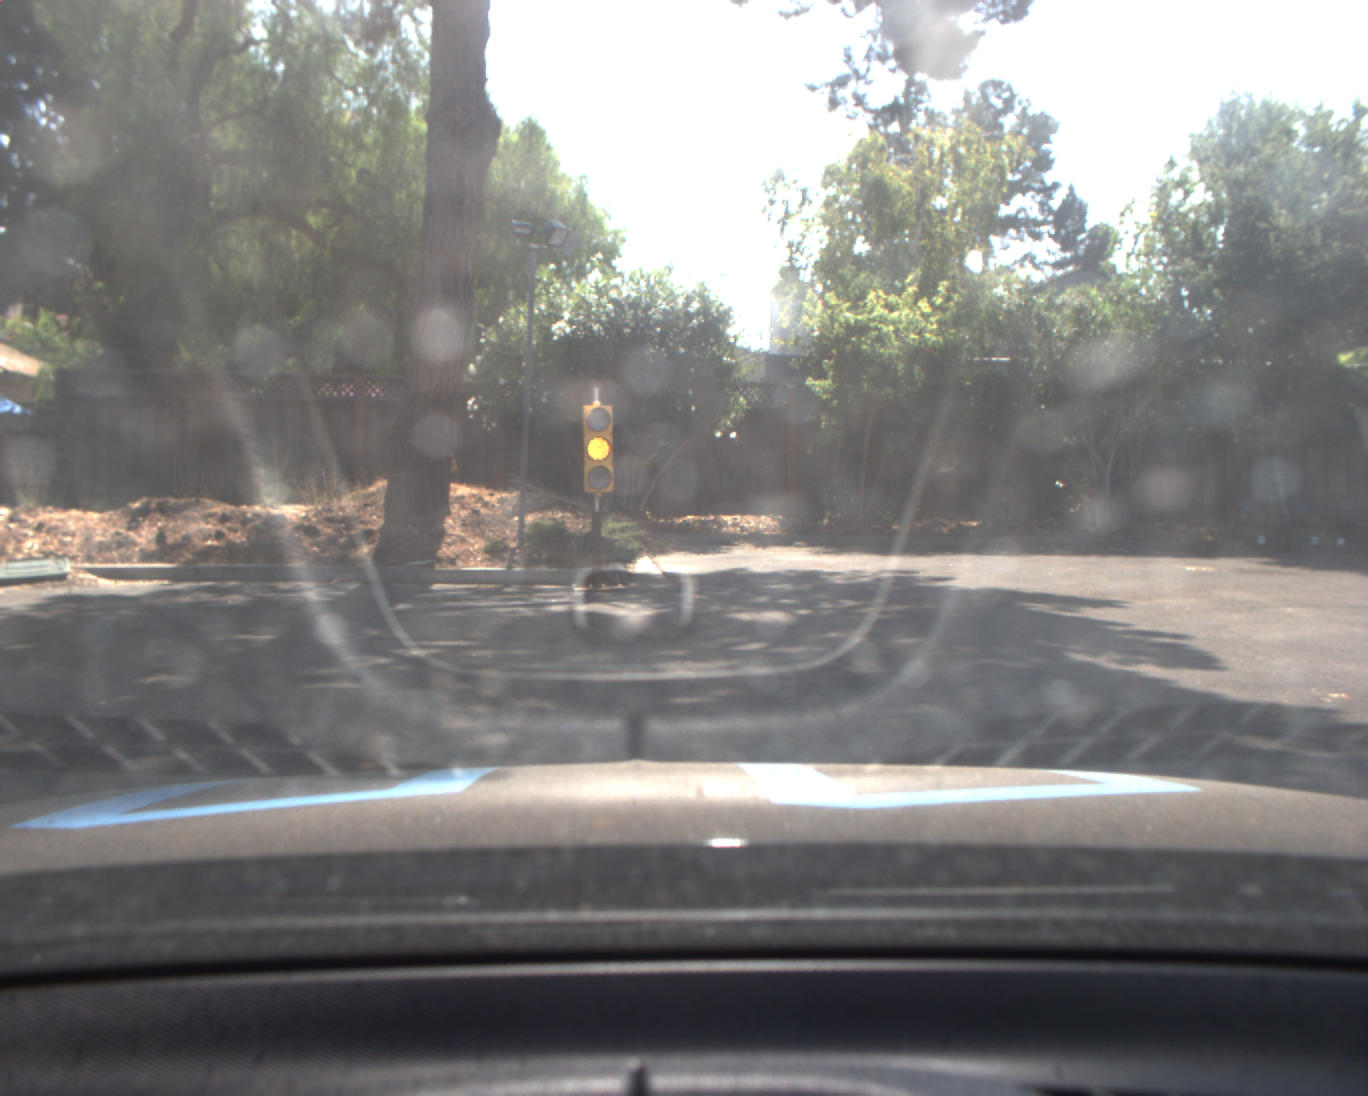yellow: (581, 401, 617, 495)
